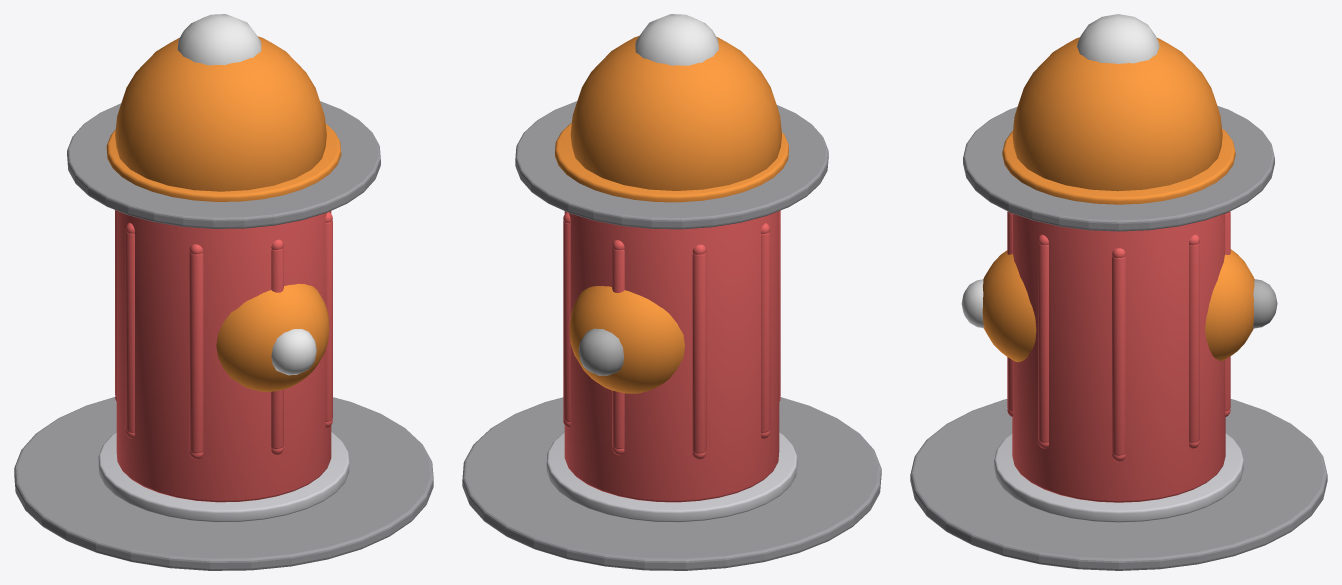
The model's file is Hindrante.glb.
3 views of the same model, side by side, from view 1: azimuth 30°, elevation 25°; view 2: azimuth 150°, elevation 25°; view 3: azimuth 270°, elevation 25° (orthographic).
Visible parts, largest first — view 1: Main_Barrel, Base_Plate, Top_Dome, Base_Plate.001, Top_Dome.002, Base_Collar, Top_Collar, Cubo, Cubo.002; view 2: Main_Barrel, Base_Plate, Top_Dome, Base_Plate.001, Top_Dome.001, Base_Collar, Top_Collar, Cubo, Cubo.001; view 3: Main_Barrel, Base_Plate, Top_Dome, Base_Plate.001, Base_Collar, Top_Dome.002, Top_Collar, Top_Dome.001, Cubo, Cubo.001, Cubo.002.
Part boxes in pixels (bbox=[...]): Main_Barrel: bbox=[115, 210, 332, 502]; Base_Plate: bbox=[14, 397, 433, 570]; Top_Dome: bbox=[115, 36, 326, 191]; Base_Plate.001: bbox=[67, 101, 380, 228]; Top_Dome.002: bbox=[216, 283, 329, 391]; Base_Collar: bbox=[98, 432, 349, 522]; Top_Collar: bbox=[106, 123, 341, 201]; Cubo: bbox=[177, 14, 261, 65]; Cubo.002: bbox=[271, 329, 316, 375]; Main_Barrel: bbox=[563, 210, 780, 502]; Base_Plate: bbox=[462, 397, 881, 570]; Top_Dome: bbox=[570, 36, 781, 190]; Base_Plate.001: bbox=[515, 101, 828, 229]; Top_Dome.001: bbox=[569, 286, 684, 393]; Base_Collar: bbox=[546, 432, 797, 522]; Top_Collar: bbox=[555, 122, 788, 202]; Cubo: bbox=[635, 14, 718, 65]; Cubo.001: bbox=[578, 328, 623, 375]; Main_Barrel: bbox=[1007, 211, 1230, 502]; Base_Plate: bbox=[910, 399, 1327, 570]; Top_Dome: bbox=[1012, 37, 1222, 191]; Base_Plate.001: bbox=[963, 106, 1274, 231]; Base_Collar: bbox=[994, 433, 1243, 522]; Top_Dome.002: bbox=[982, 250, 1036, 362]; Top_Collar: bbox=[1002, 128, 1235, 204]; Top_Dome.001: bbox=[1205, 249, 1254, 360]; Cubo: bbox=[1077, 14, 1159, 63]; Cubo.001: bbox=[1253, 279, 1277, 328]; Cubo.002: bbox=[961, 279, 984, 328].
Bounding box in the file's own units: 2.54 × 3.11 × 2.54.
